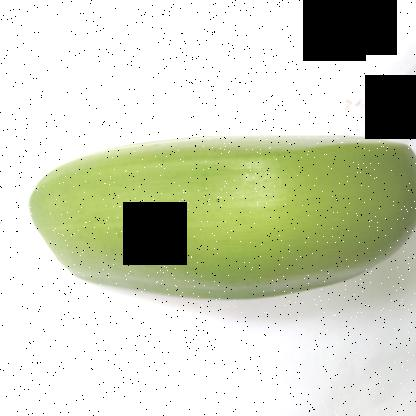freshunripe: (18, 116, 415, 314)
